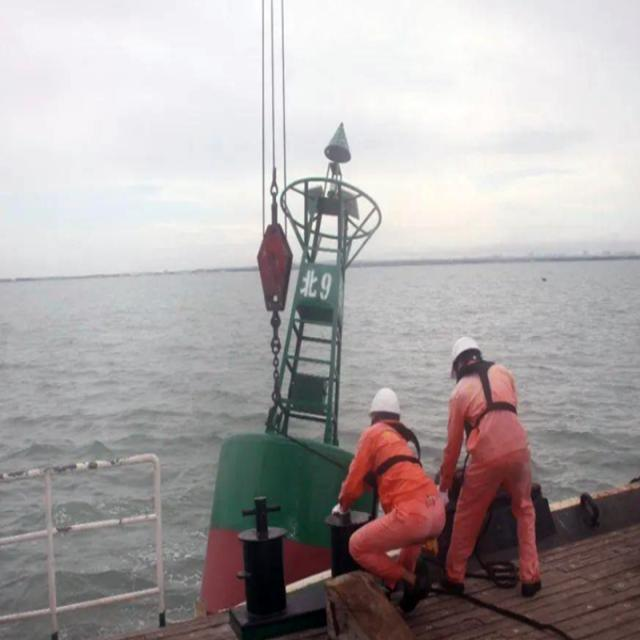buoy: (206, 125, 381, 612)
